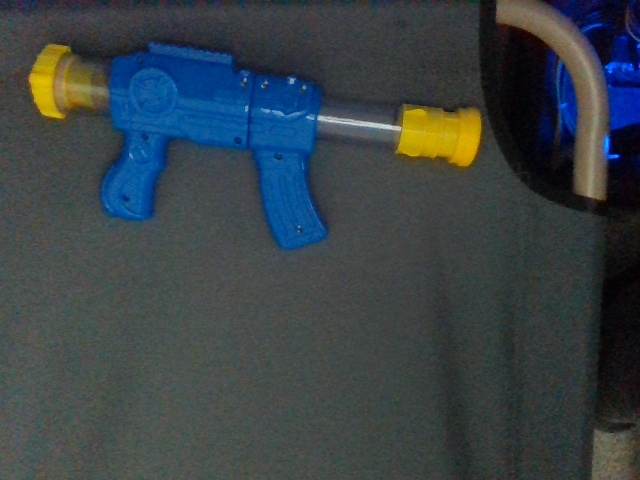screw hole: (296, 224, 304, 235), (141, 133, 149, 141), (234, 137, 242, 145), (274, 154, 283, 161), (138, 57, 145, 65), (242, 77, 249, 85), (262, 81, 269, 89), (122, 195, 129, 202), (301, 85, 308, 92)
toy: (28, 41, 482, 249)
